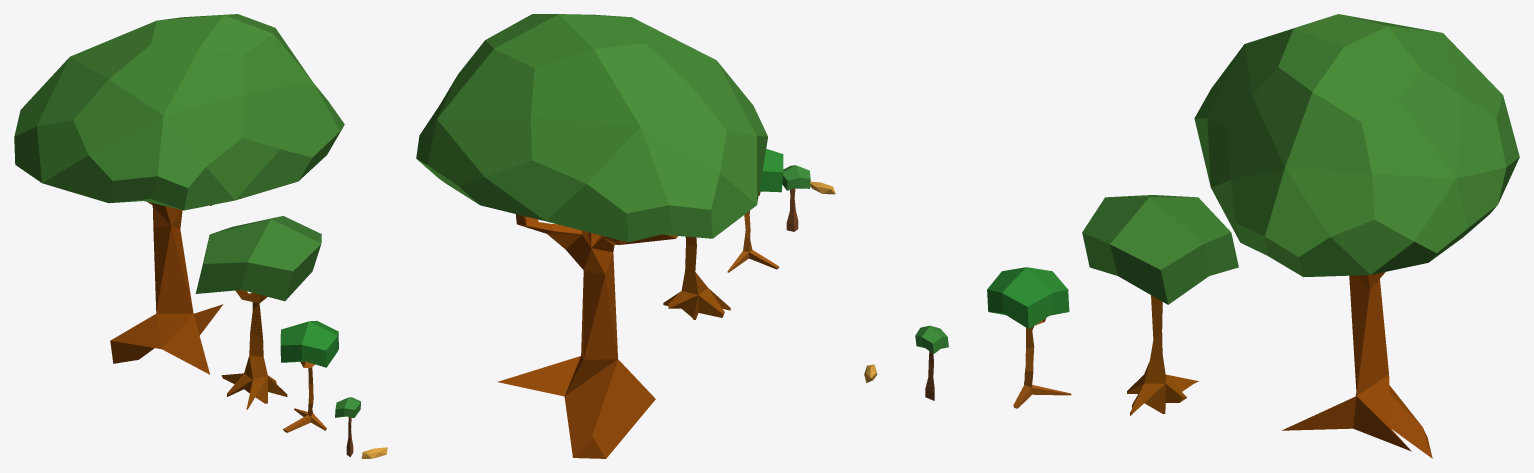
File: NormalTree_Staged.fbx
3 renders of one model, left to right at view 1: azimuth 30°, elevation 25°; view 2: azimuth 150°, elevation 25°; view 3: azimuth 270°, elevation 25°, orthographic. The views are drawn at different scales.
Parts seen in each view (by area): view 1: Stage.3, Stage.2, Stage.1, Stage.0; view 2: Stage.3, Stage.2, Stage.1, Stage.0; view 3: Stage.3, Stage.2, Stage.1, Stage.0.
Part boxes in pixels (left/top/right/bottom): Stage.3: left=14, top=14, right=344, bottom=374; Stage.2: left=195, top=216, right=321, bottom=409; Stage.1: left=280, top=320, right=338, bottom=432; Stage.0: left=335, top=397, right=360, bottom=457; Stage.3: left=416, top=14, right=767, bottom=458; Stage.2: left=663, top=236, right=730, bottom=319; Stage.1: left=727, top=149, right=783, bottom=272; Stage.0: left=782, top=165, right=810, bottom=231; Stage.3: left=1194, top=14, right=1519, bottom=458; Stage.2: left=1082, top=195, right=1238, bottom=415; Stage.1: left=987, top=267, right=1071, bottom=408; Stage.0: left=915, top=325, right=948, bottom=400.
Size of the model in its own units: 636 by 774 by 1044.
